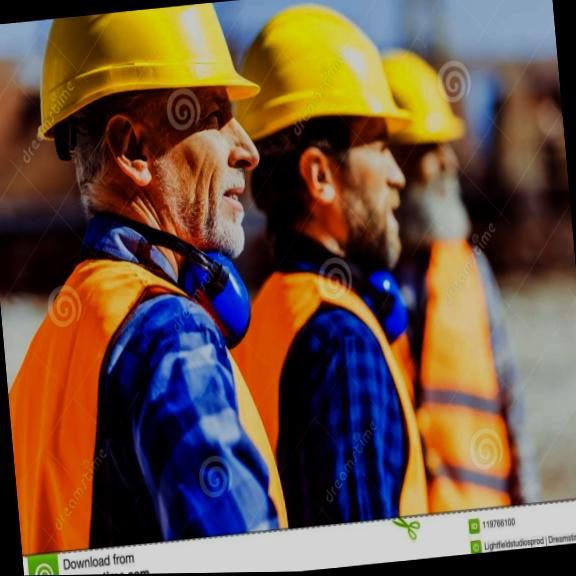safety_vest: (0, 237, 290, 557), (221, 254, 430, 532), (400, 236, 514, 517)
